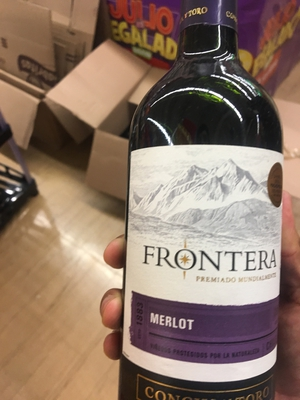frontera merlot: (106, 15, 300, 394)
